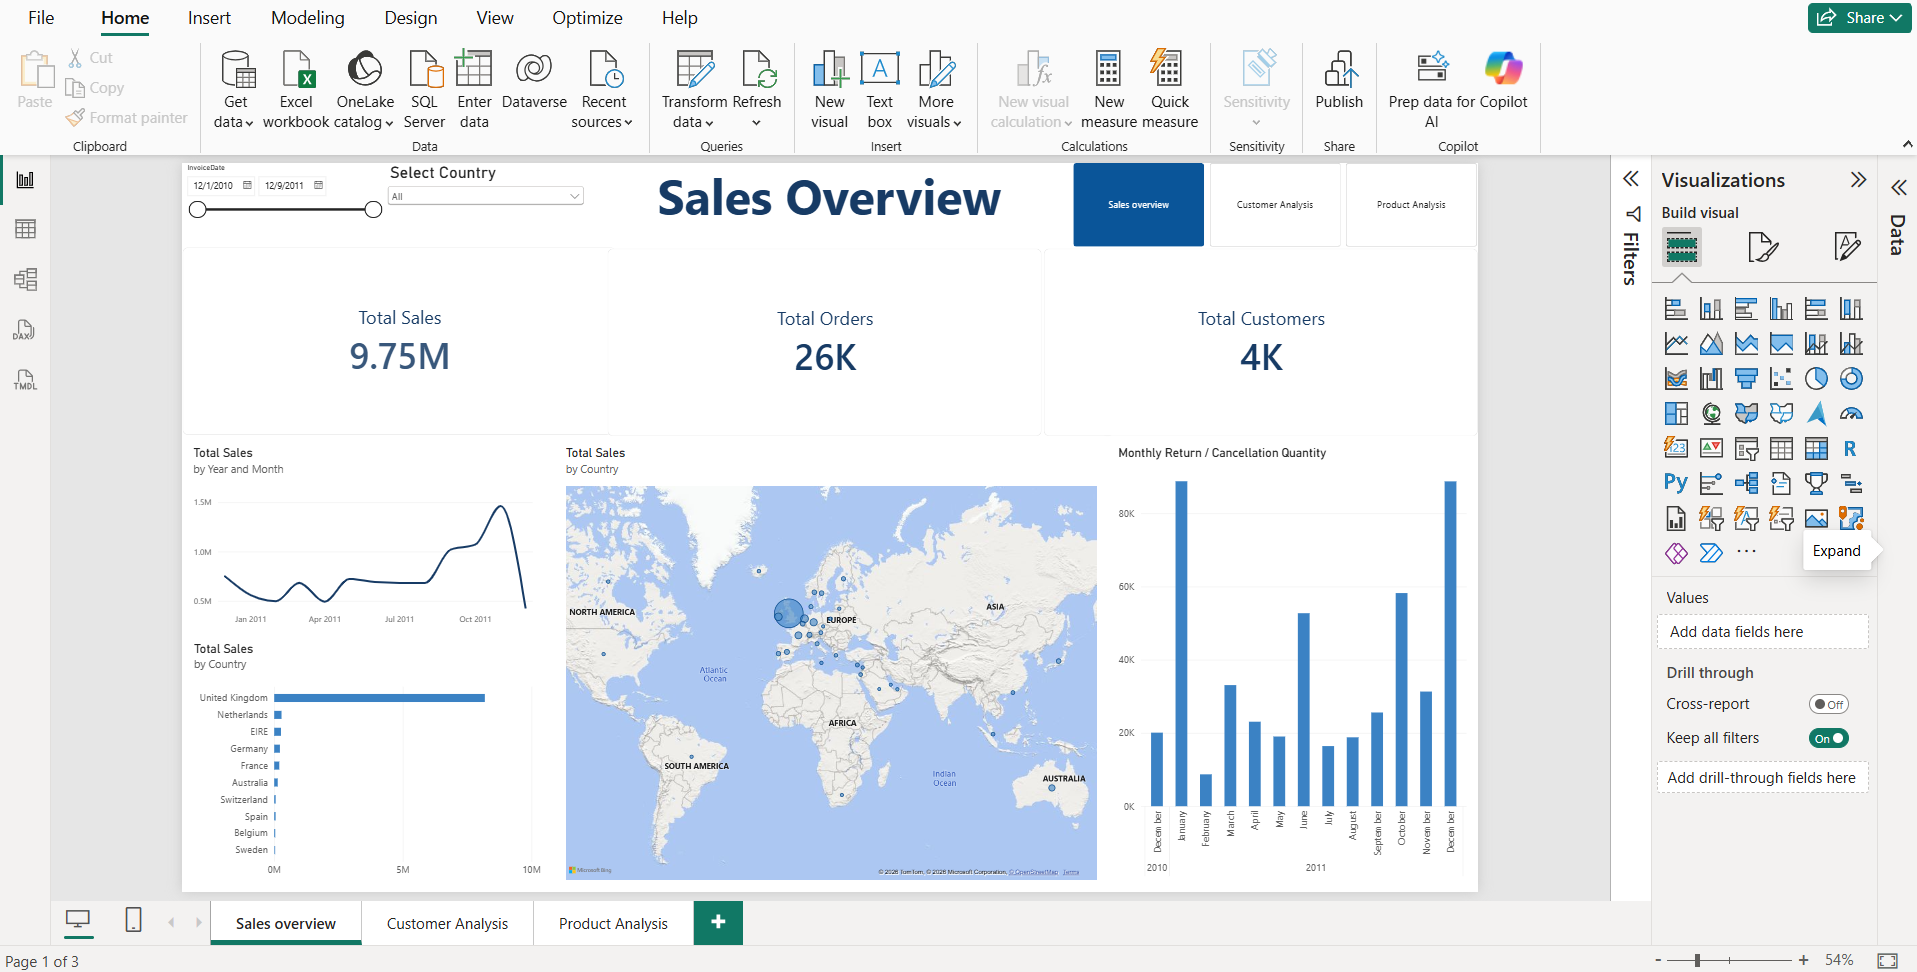

What the dashboard file says about the page in this screenshot:
{"tool":"powerbi","page":{"name":"Sales overview","canvas":[1920,1080],"ordinal":0},"visuals":[{"type":"cardVisual","fields":{"Data":["Online Retail.Total Sales"]},"box":[0,124.4,644.4,280],"z":0},{"type":"cardVisual","fields":{"Data":["Online Retail.Total Orders"]},"box":[630,125,645,280],"z":1000},{"type":"cardVisual","fields":{"Data":["Online Retail.Total Customers"]},"box":[1275,125,645,280],"z":2000},{"type":"clusteredBarChart","fields":{"Category":["Online Retail.Country"],"Y":["Online Retail.Total Sales"]},"box":[0,693.1,550.1,387.3],"z":3000},{"type":"lineChart","fields":{"Category":["Online Retail.InvoiceDate.Variation.Date Hierarchy.Year","Online Retail.InvoiceDate.Variation.Date Hierarchy.Month"],"Y":["Online Retail.Total Sales"]},"box":[0,404,550,302],"z":4000},{"type":"clusteredColumnChart","title":"Monthly Return / Cancellation Quantity","fields":{"Category":["Online Retail.InvoiceDate.Variation.Date Hierarchy.Year","Online Retail.InvoiceDate.Variation.Date Hierarchy.Month"],"Y":["Online Retail.Return Quantity"]},"box":[1370,404,550,676],"z":5000},{"type":"textbox","box":[0,0,1917.5,105],"z":6000},{"type":"slicer","fields":{"Values":["Online Retail.InvoiceDate"]},"box":[0,0,300,104.3],"z":7000},{"type":"slicer","fields":{"Values":["Online Retail.Country"]},"box":[300,0,300,104.3],"z":8000},{"type":"pageNavigator","box":[1320,0,600,124.4],"z":9000},{"type":"map","fields":{"Category":["Online Retail.Country"],"Size":["Online Retail.Total Sales"]},"box":[551.1,404.4,820,675.6],"z":10000}]}

Visuals, with their boxes on the page's 1920x1080 design canvas (x1, y1, x2, y2). These are canvas units, not pixel positions in the 1917x972 screenshot, which may show the page scaled, cropped or inside an application window:
cardVisual - Online Retail.Total Sales: bbox=(0, 124, 644, 404)
cardVisual - Online Retail.Total Orders: bbox=(630, 125, 1275, 405)
cardVisual - Online Retail.Total Customers: bbox=(1275, 125, 1920, 405)
clusteredBarChart - Online Retail.Country x Online Retail.Total Sales: bbox=(0, 693, 550, 1080)
lineChart - Online Retail.InvoiceDate.Variation.Date Hierarchy.Year x Online Retail.InvoiceDate.Variation.Date Hierarchy.Month: bbox=(0, 404, 550, 706)
"Monthly Return / Cancellation Quantity" clusteredColumnChart: bbox=(1370, 404, 1920, 1080)
textbox: bbox=(0, 0, 1918, 105)
slicer - Online Retail.InvoiceDate: bbox=(0, 0, 300, 104)
slicer - Online Retail.Country: bbox=(300, 0, 600, 104)
pageNavigator: bbox=(1320, 0, 1920, 124)
map - Online Retail.Country x Online Retail.Total Sales: bbox=(551, 404, 1371, 1080)
